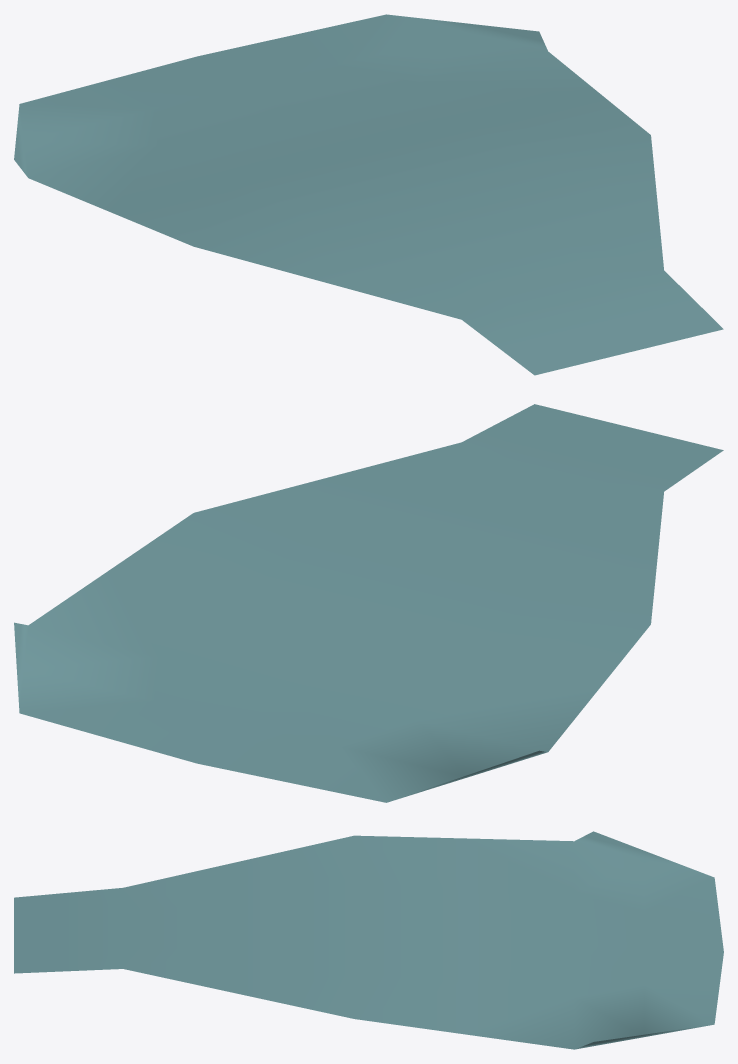
The model's file is Electric_2_Window_Tessellate_T.fbx.
3 views of the same model, one above another, from view 1: azimuth 30°, elevation 25°; view 2: azimuth 150°, elevation 25°; view 3: azimuth 270°, elevation 25° (orthographic). The views are drawn at different scales.
Visible parts, largest first — view 1: Electric_2_Window_Tessellate_T; view 2: Electric_2_Window_Tessellate_T; view 3: Electric_2_Window_Tessellate_T.
Boxes of the visible parts, left/top/right/bottom form: Electric_2_Window_Tessellate_T: left=14, top=14, right=723, bottom=375; Electric_2_Window_Tessellate_T: left=14, top=404, right=723, bottom=802; Electric_2_Window_Tessellate_T: left=14, top=831, right=723, bottom=1049.
Size of the model in its own units: 65.24 by 3.59 by 92.94.
